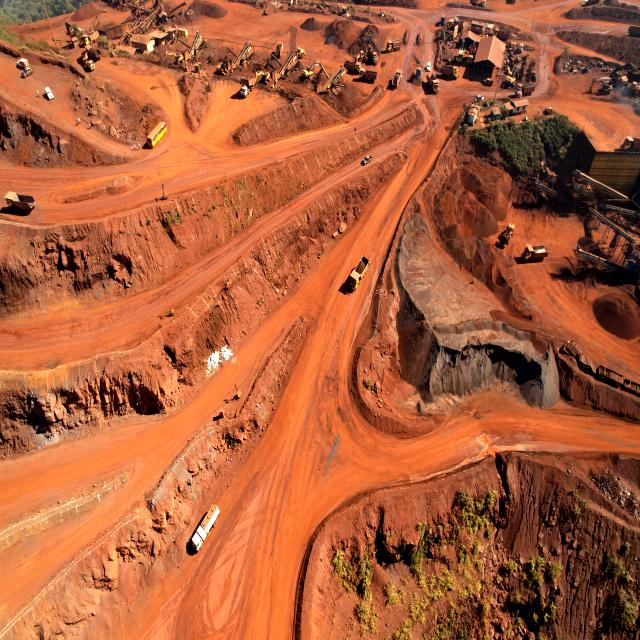Dumper truck: (190, 504, 219, 554), (2, 188, 36, 216), (348, 260, 366, 292), (523, 245, 546, 262), (437, 64, 458, 80), (621, 135, 640, 152), (462, 37, 478, 55), (515, 82, 534, 96), (240, 76, 253, 96), (81, 56, 98, 71), (501, 224, 515, 242), (427, 74, 441, 91), (15, 55, 31, 69), (457, 52, 474, 65), (83, 30, 98, 44), (472, 20, 486, 34), (385, 40, 397, 52), (394, 69, 403, 85), (349, 62, 363, 72), (629, 25, 640, 37), (363, 70, 376, 80), (370, 50, 380, 63), (412, 67, 422, 79), (470, 0, 486, 7), (274, 43, 283, 55)
Excavator: (611, 62, 640, 77), (303, 59, 323, 80), (592, 78, 611, 93), (164, 50, 183, 64), (215, 60, 231, 76), (255, 70, 270, 85), (337, 4, 351, 18)
car: (22, 67, 35, 78), (44, 86, 54, 100), (363, 156, 371, 165), (425, 62, 433, 70)
person: (88, 122, 92, 130), (78, 115, 81, 124), (138, 143, 141, 151), (76, 118, 79, 126), (134, 144, 136, 152)
